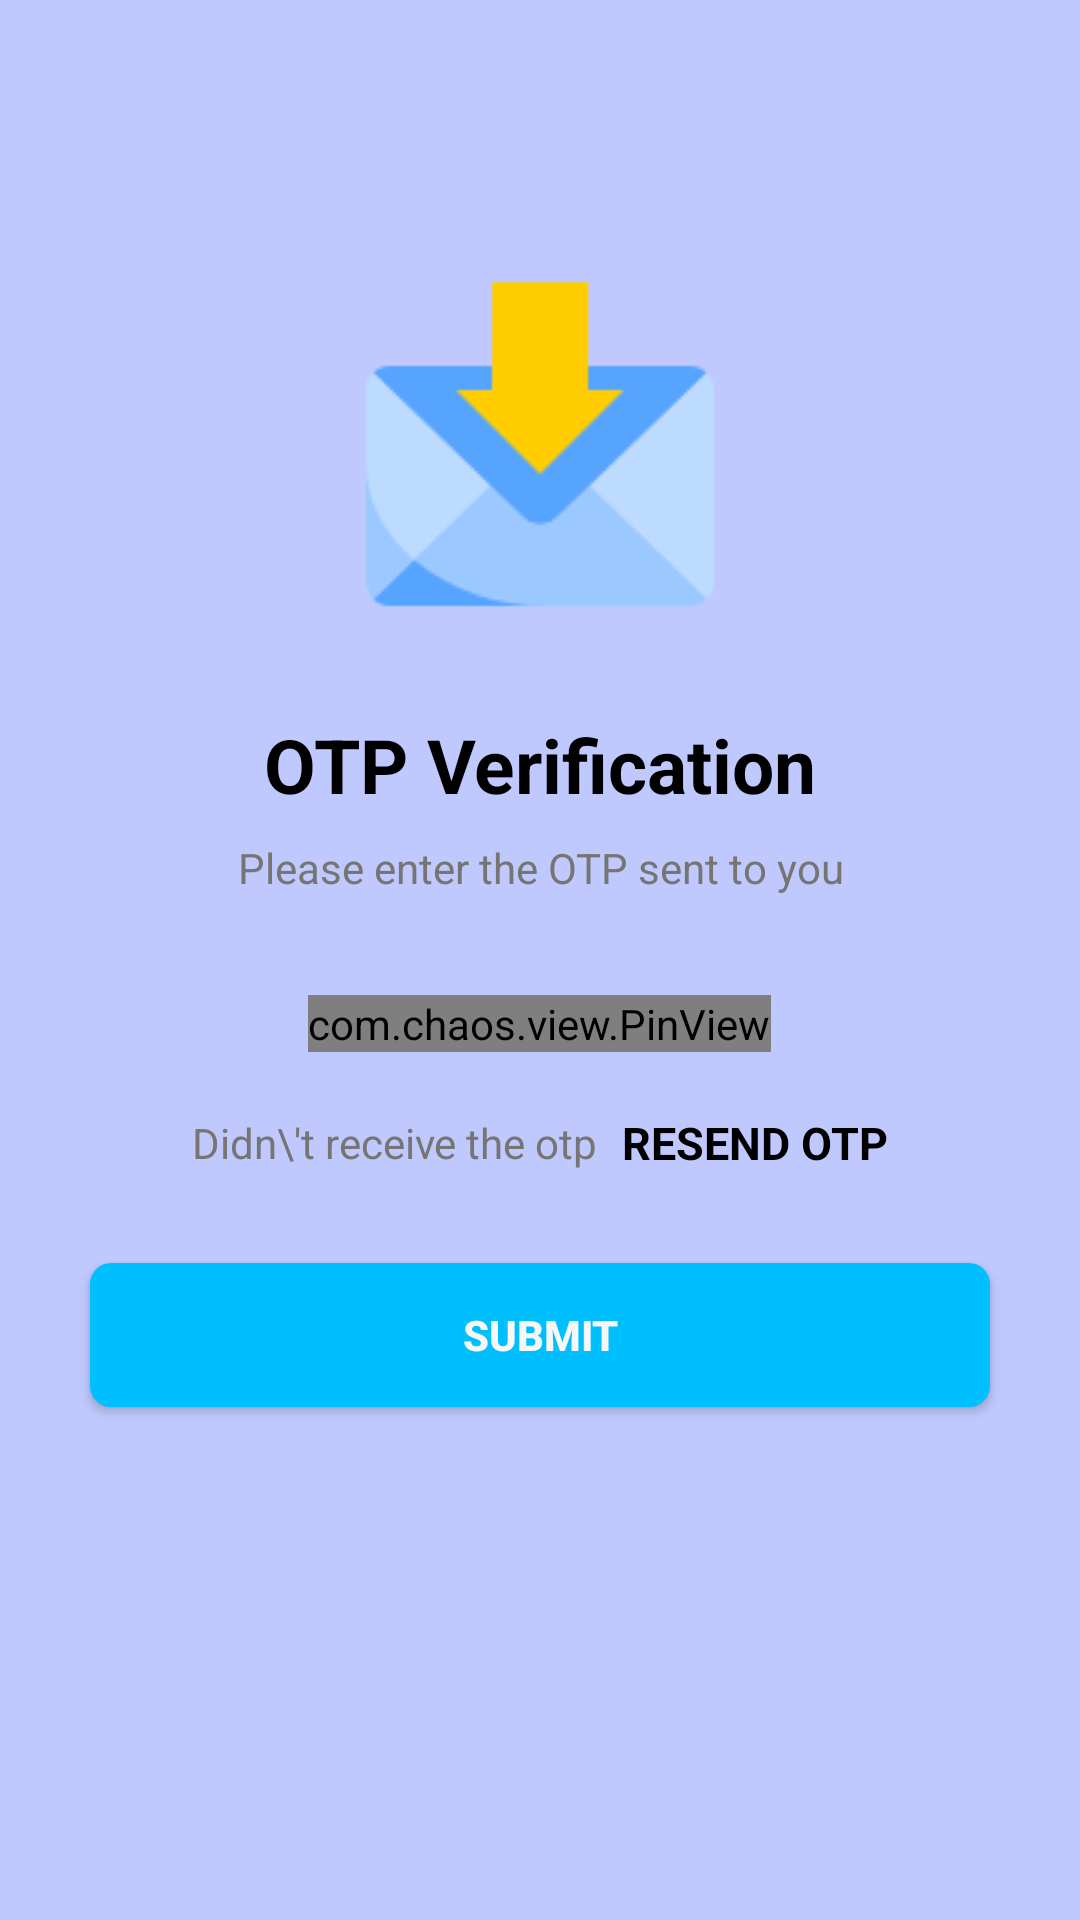

Named icons in this screenshot (1080 x 1920) and their centers, [x,y]:
receive: [536,444]
